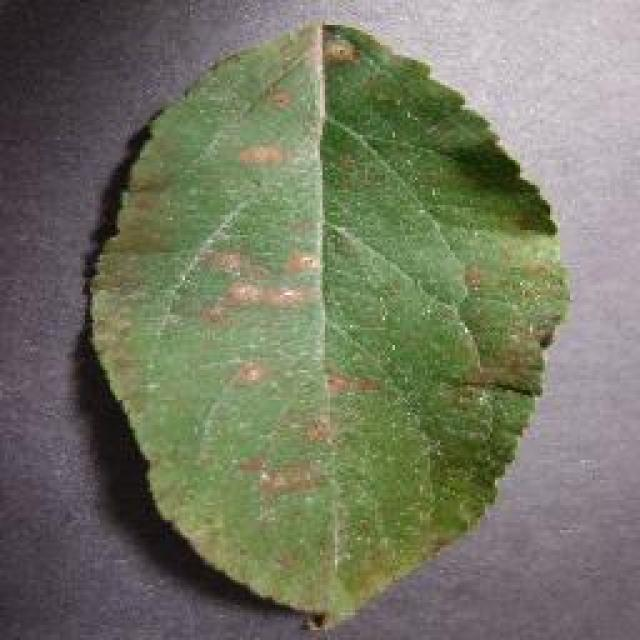apple healthy: (82, 18, 570, 632)
